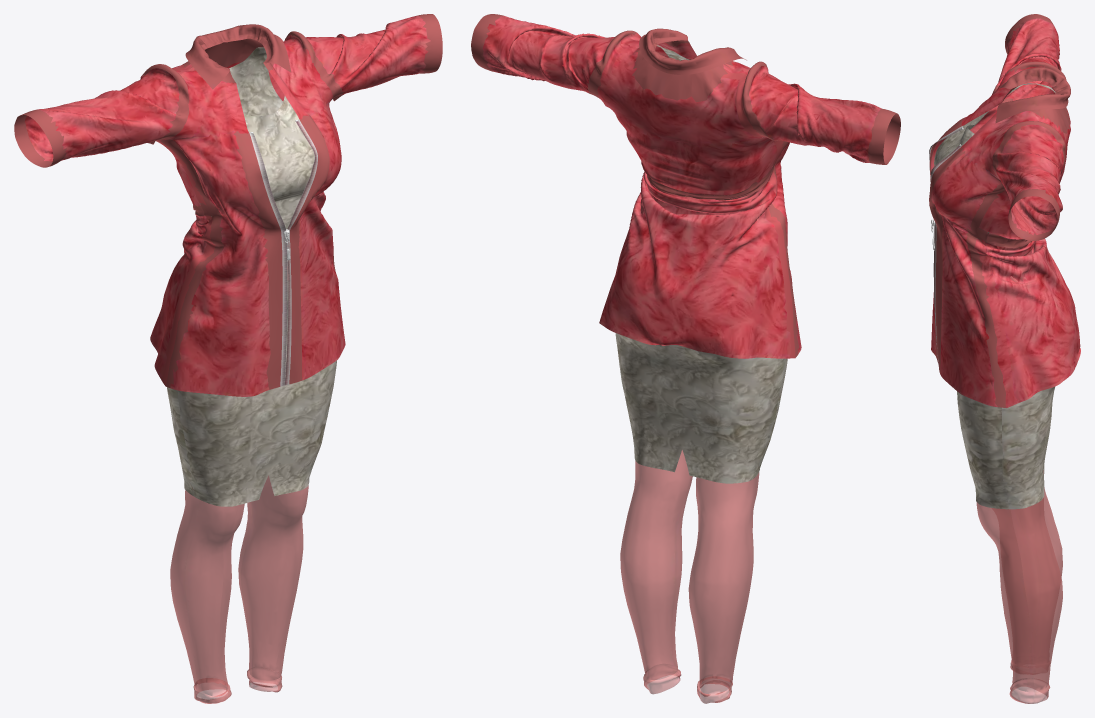
File: G_coral_coat_set.glb
3 views of the same model, side by side, from view 1: azimuth 30°, elevation 25°; view 2: azimuth 150°, elevation 25°; view 3: azimuth 270°, elevation 25° (orthographic). The views are drawn at different scales.
Visible parts, largest first — view 1: Garment; view 2: Garment; view 3: Garment.
Boxes of the visible parts, <box> form: Garment: <box>14,14,442,703</box>; Garment: <box>471,14,900,703</box>; Garment: <box>929,14,1080,703</box>.
Size of the model in its own units: 0.8818 by 1.35 by 0.3057.
Materials: 1 (1 with a texture image).
